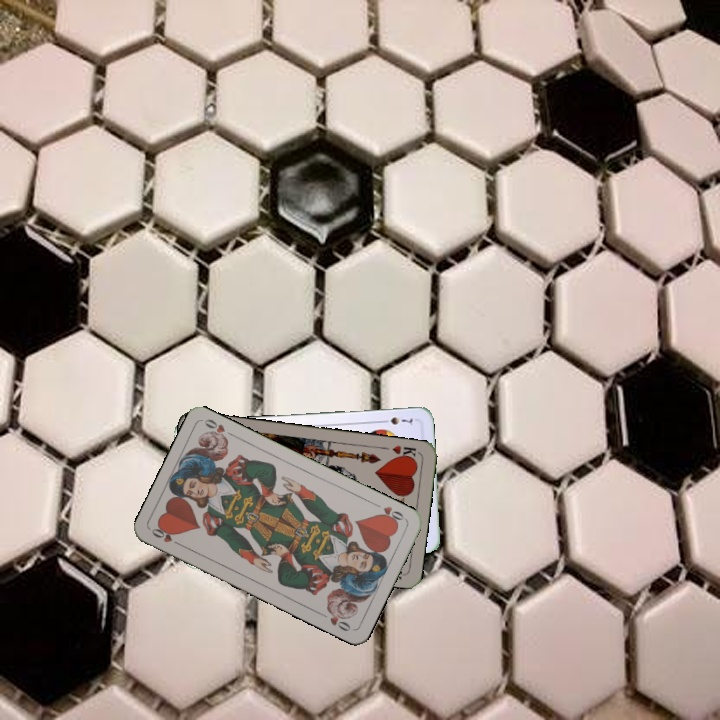HK: (388, 441, 421, 463)
HO: (370, 499, 408, 527), (147, 523, 185, 549)
S7: (377, 413, 415, 428)
